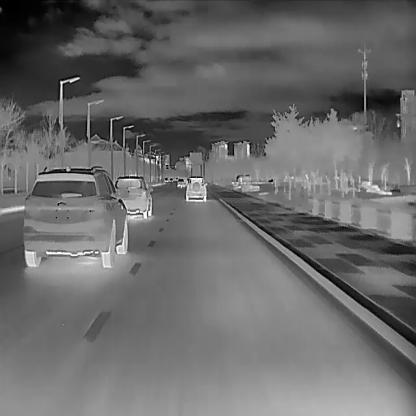car: (23, 163, 128, 268), (114, 174, 152, 218), (185, 176, 207, 201), (236, 174, 251, 181), (176, 178, 184, 187), (164, 177, 168, 182), (169, 177, 172, 182)
